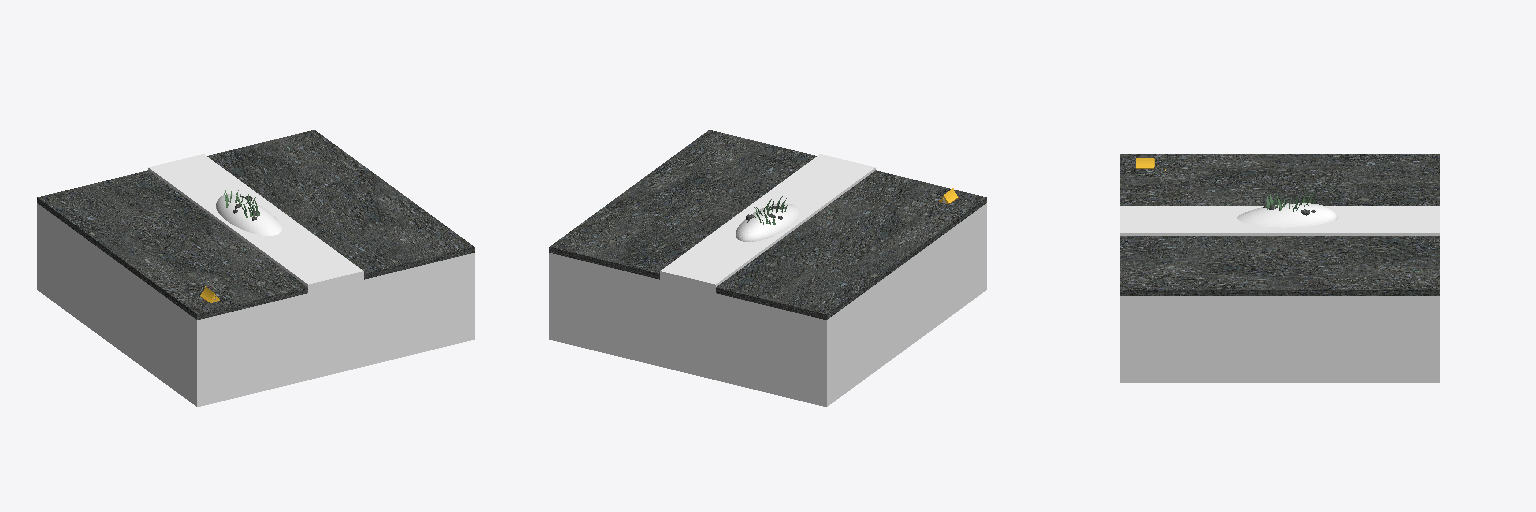
The picture shows the model from 3 angles: view 1: azimuth 30°, elevation 25°; view 2: azimuth 150°, elevation 25°; view 3: azimuth 270°, elevation 25°; orthographic projection.
Parts seen in each view (by area): view 1: 003_Box_&_Box_3_&_Box_4, 002_Box_1_&_Box_2, 001_water, 000_Sphere; view 2: 002_Box_1_&_Box_2, 003_Box_&_Box_3_&_Box_4, 001_water, 000_Sphere; view 3: 002_Box_1_&_Box_2, 003_Box_&_Box_3_&_Box_4, 001_water, 000_Sphere.
Boxes of the visible parts, x1,y1,x2,y2 form: 003_Box_&_Box_3_&_Box_4: [37, 203, 474, 406]; 002_Box_1_&_Box_2: [37, 130, 474, 319]; 001_water: [148, 154, 363, 344]; 000_Sphere: [216, 194, 281, 235]; 002_Box_1_&_Box_2: [549, 130, 986, 319]; 003_Box_&_Box_3_&_Box_4: [549, 203, 986, 406]; 001_water: [660, 154, 875, 344]; 000_Sphere: [736, 203, 798, 241]; 002_Box_1_&_Box_2: [1120, 154, 1439, 295]; 003_Box_&_Box_3_&_Box_4: [1120, 296, 1439, 382]; 001_water: [1120, 206, 1439, 235]; 000_Sphere: [1237, 203, 1337, 227].
Bounding box in the file's own units: 100 × 40.64 × 100.
26 materials, 2 textured.